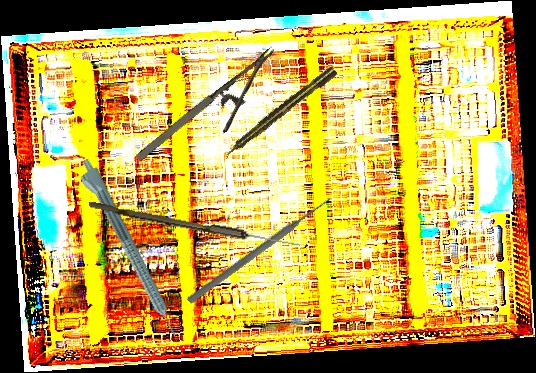Handpiece: (71, 156, 182, 343), (220, 64, 339, 162)
Needle Holder: (132, 46, 297, 184)
Pusher: (185, 193, 336, 306)
Surgical Spoon: (87, 201, 302, 250)
